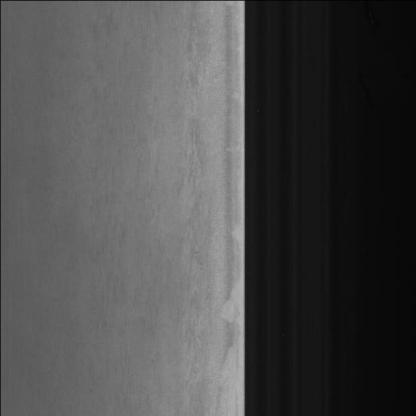silk_spot: (170, 24, 205, 348)
